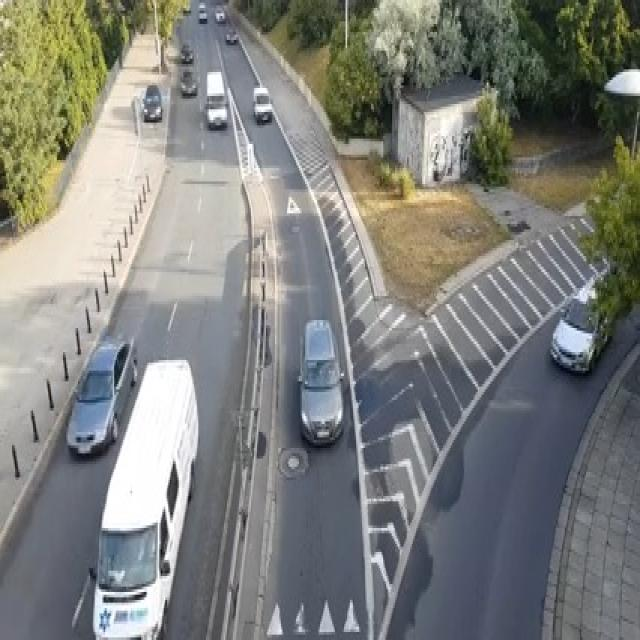bus: (90, 355, 198, 637)
car: (65, 333, 136, 456), (296, 318, 344, 446), (204, 93, 227, 128), (252, 85, 272, 123), (143, 83, 162, 120), (286, 195, 300, 232), (179, 69, 197, 96), (180, 40, 192, 61), (213, 3, 226, 21), (196, 0, 207, 21), (225, 27, 238, 42), (182, 0, 191, 13)
